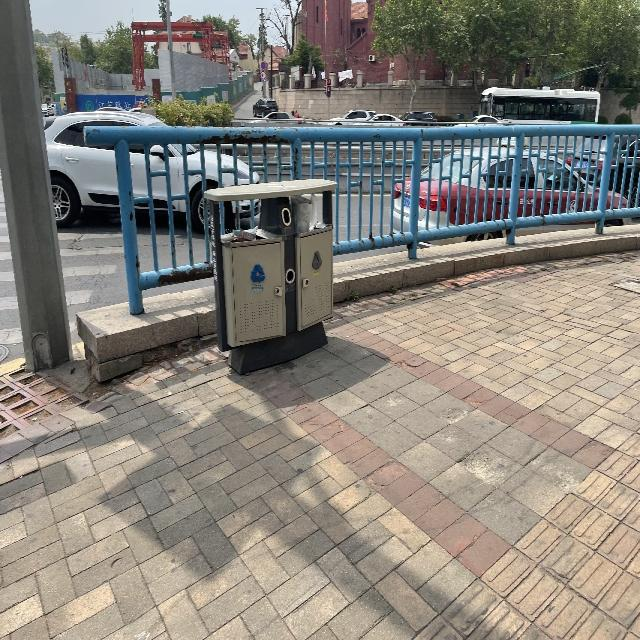overflow: (205, 177, 338, 375)
